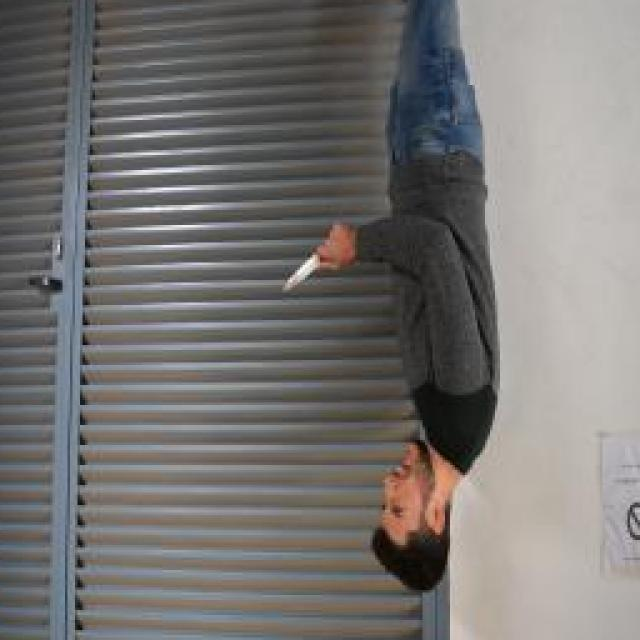knife: (278, 242, 338, 298)
